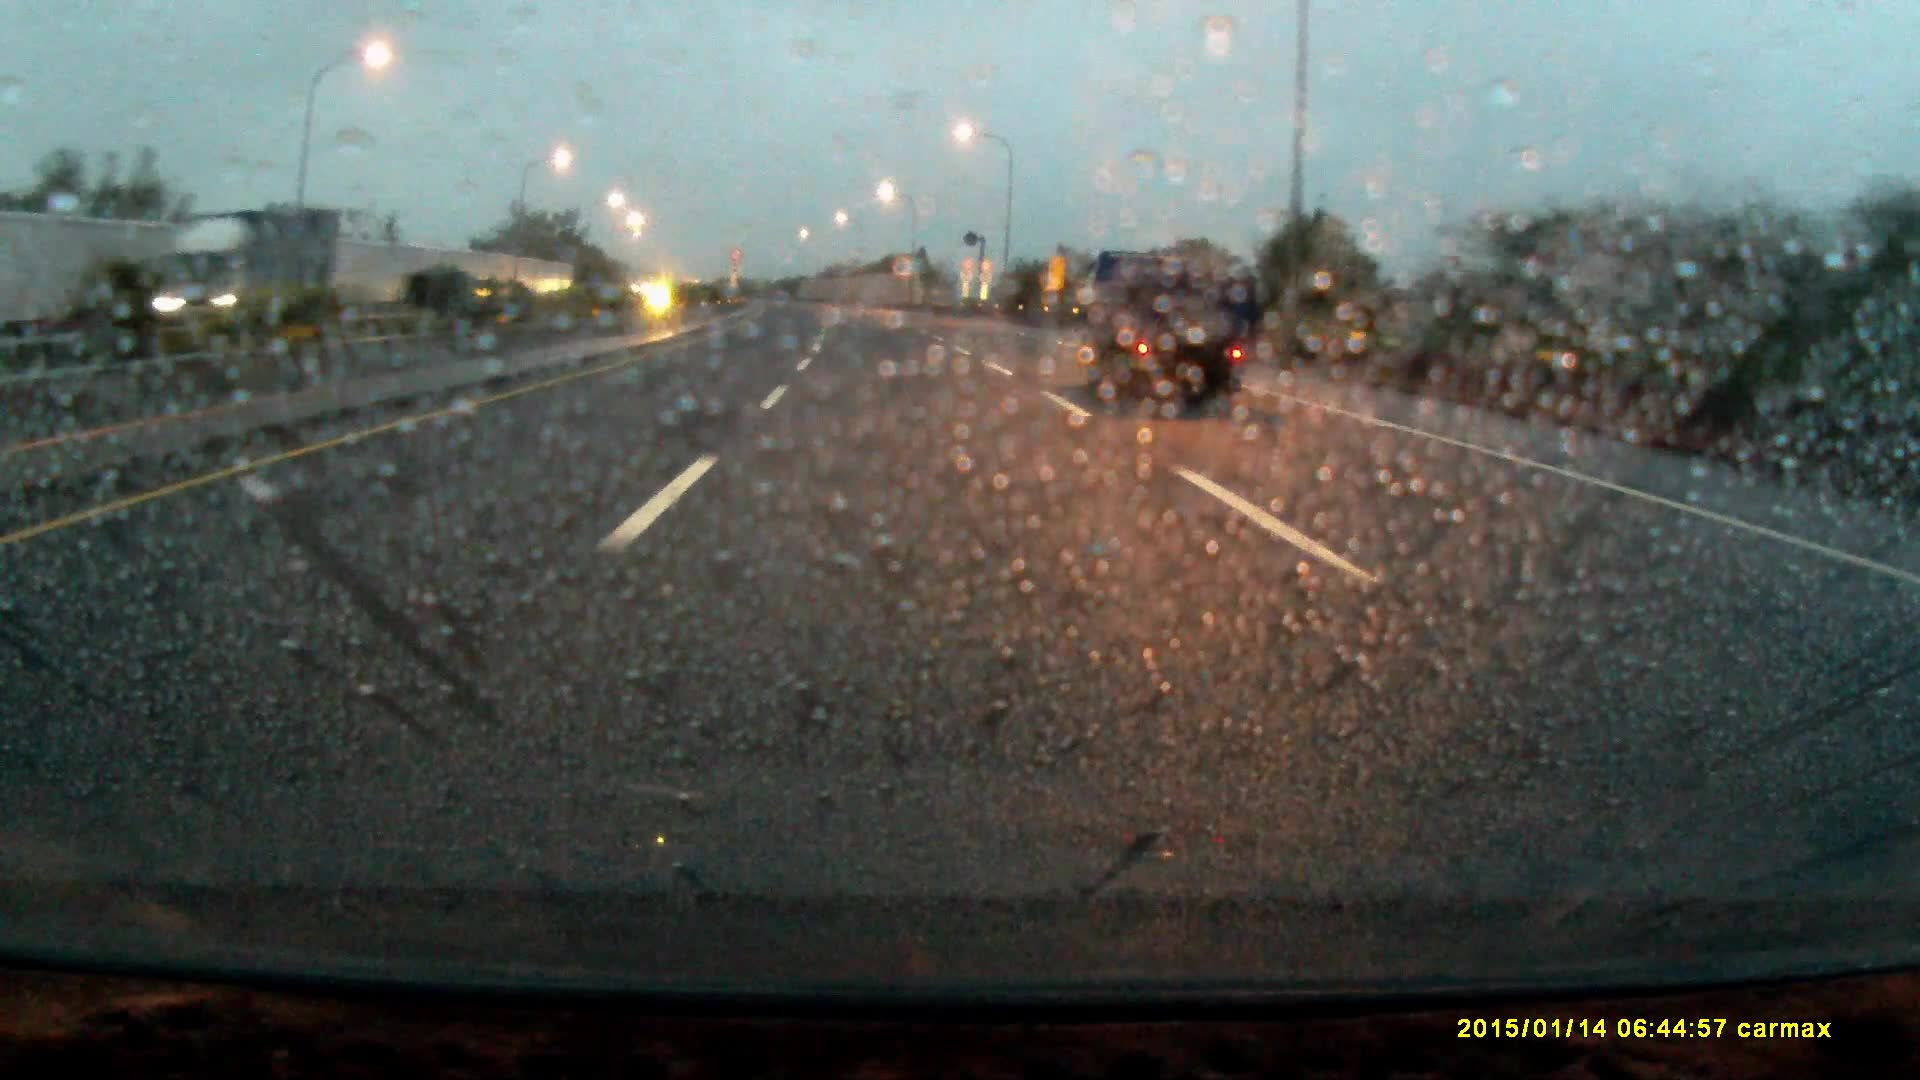vehicle: (1073, 247, 1241, 407), (164, 210, 316, 339)
